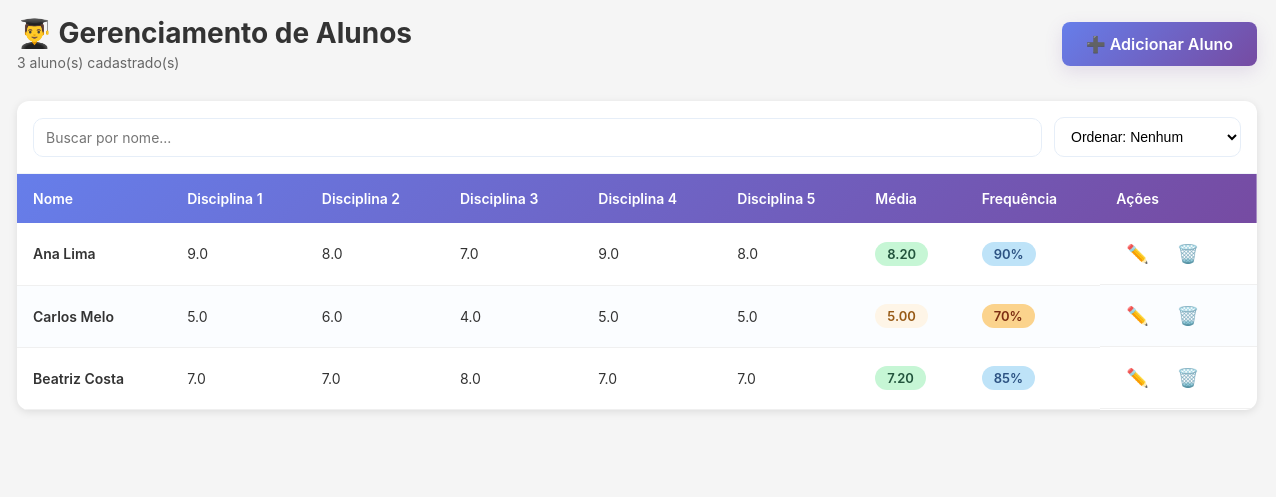
Test: StudentList › opens the edit form when edit button is clicked
Click the button titled "editar" in the row of "Ana Lima".
click(1138, 254)  # box [1116,237,1159,270]
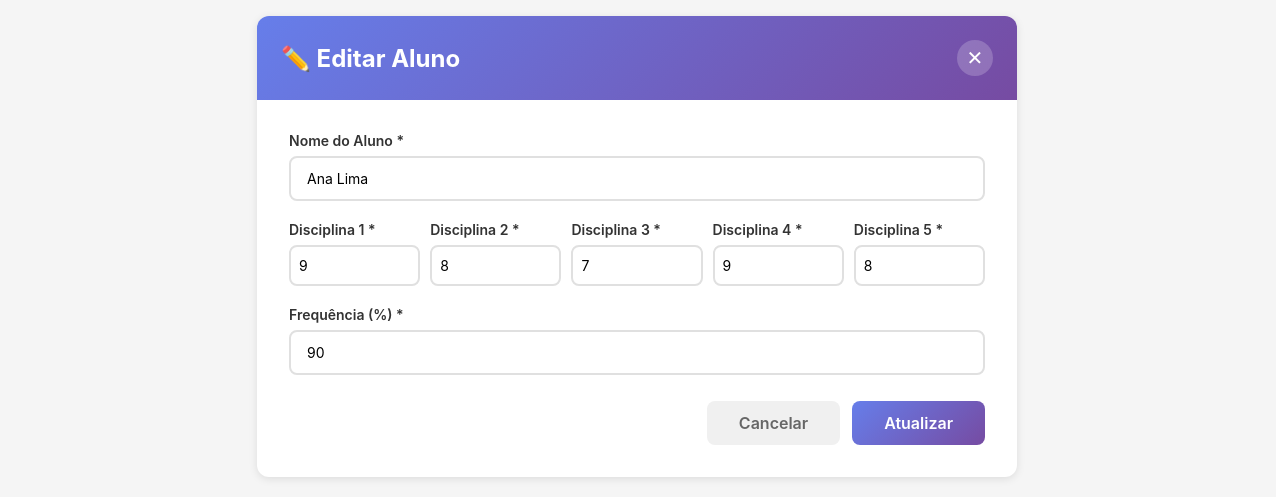
Check: the heading "✏️ Editar Aluno" is shown, box [281,44,460,72]
